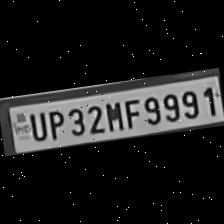1: (198, 84, 220, 118)
2: (84, 100, 106, 134)
3: (64, 104, 86, 138)
9: (176, 86, 200, 120), (158, 89, 181, 123), (140, 93, 162, 126)
F: (120, 96, 142, 130)
M: (102, 99, 123, 134)
P: (43, 106, 66, 142)
U: (24, 109, 46, 143)
